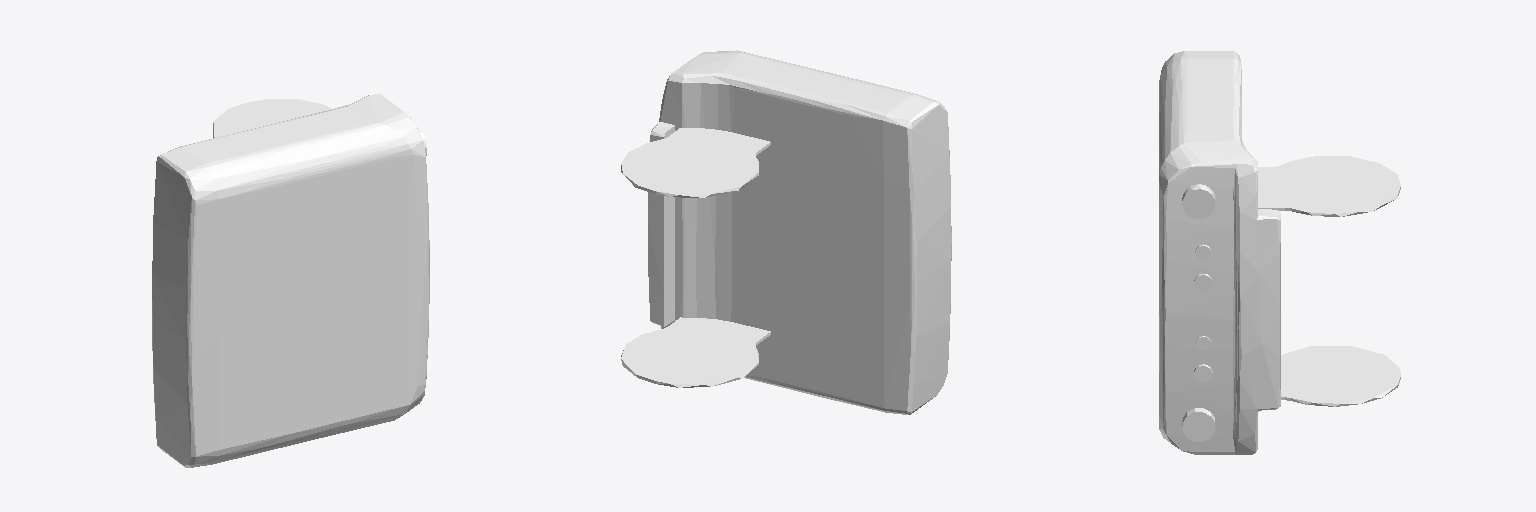
File: head_tilt.obj
The picture shows the model from 3 angles: view 1: azimuth 30°, elevation 25°; view 2: azimuth 150°, elevation 25°; view 3: azimuth 270°, elevation 25°; orthographic projection.
Size of the model in its own units: 2.61 by 2.96 by 2.17.